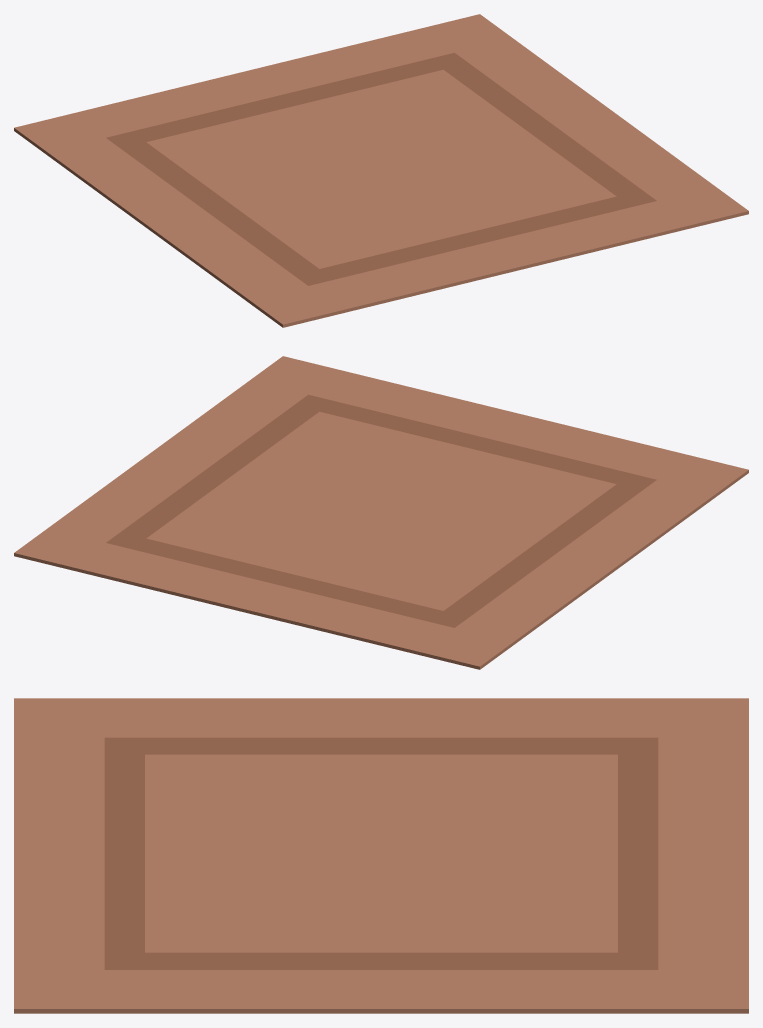
The model's file is rug-square.glb.
3 renders of one model, top to bottom at view 1: azimuth 30°, elevation 25°; view 2: azimuth 150°, elevation 25°; view 3: azimuth 270°, elevation 25°, orthographic. The views are drawn at different scales.
Parts seen in each view (by area): view 1: rug-square; view 2: rug-square; view 3: rug-square.
Boxes of the visible parts, <box> form: rug-square: <box>14,14,748,327</box>; rug-square: <box>14,356,748,669</box>; rug-square: <box>14,698,748,1013</box>.
Size of the model in its own units: 1.8 by 0.012 by 1.8.
